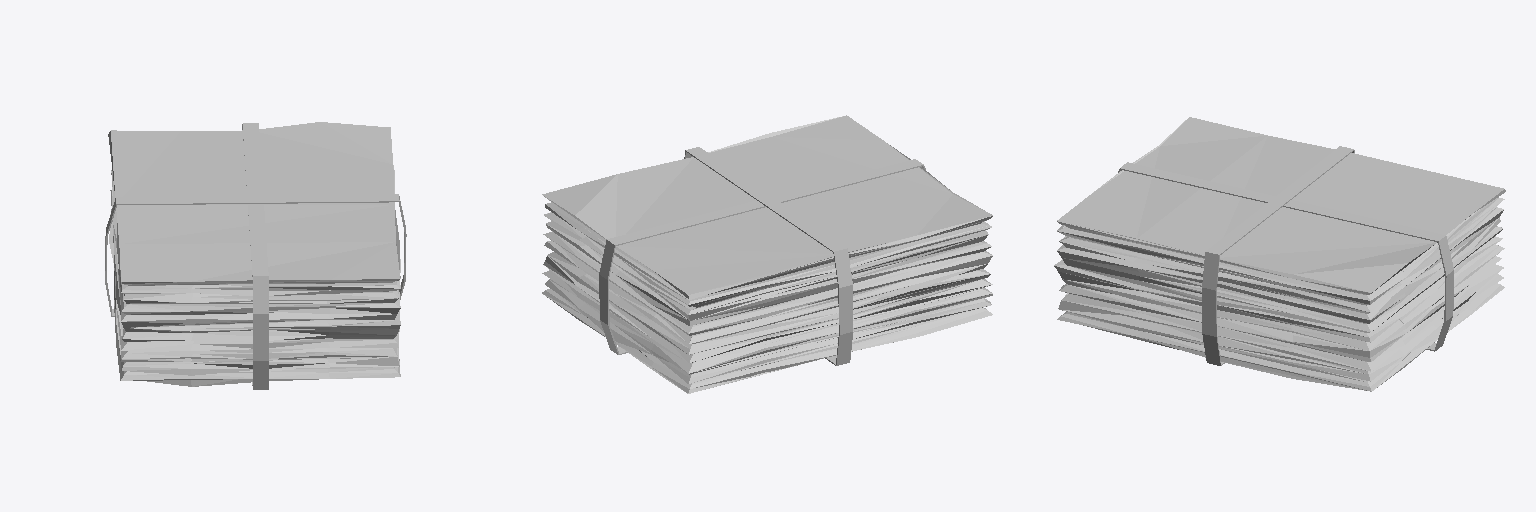
The model's file is periodico.obj.
3 views of the same model, side by side, from view 1: azimuth 30°, elevation 25°; view 2: azimuth 150°, elevation 25°; view 3: azimuth 270°, elevation 25° (orthographic).
Visible parts, largest first — view 1: Cube; view 2: Cube; view 3: Cube.
Part boxes in pixels (bbox=[...]): Cube: bbox=[105, 122, 406, 389]; Cube: bbox=[542, 115, 992, 393]; Cube: bbox=[1054, 117, 1505, 391].
Bounding box in the file's own units: 2.55 × 0.7628 × 2.77.